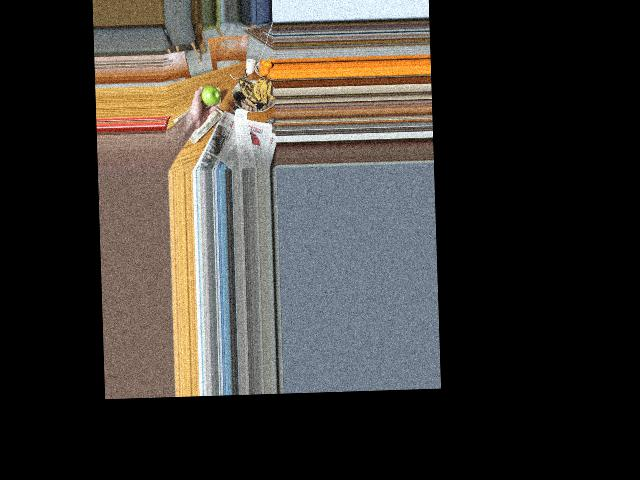apple: (198, 84, 221, 108)
